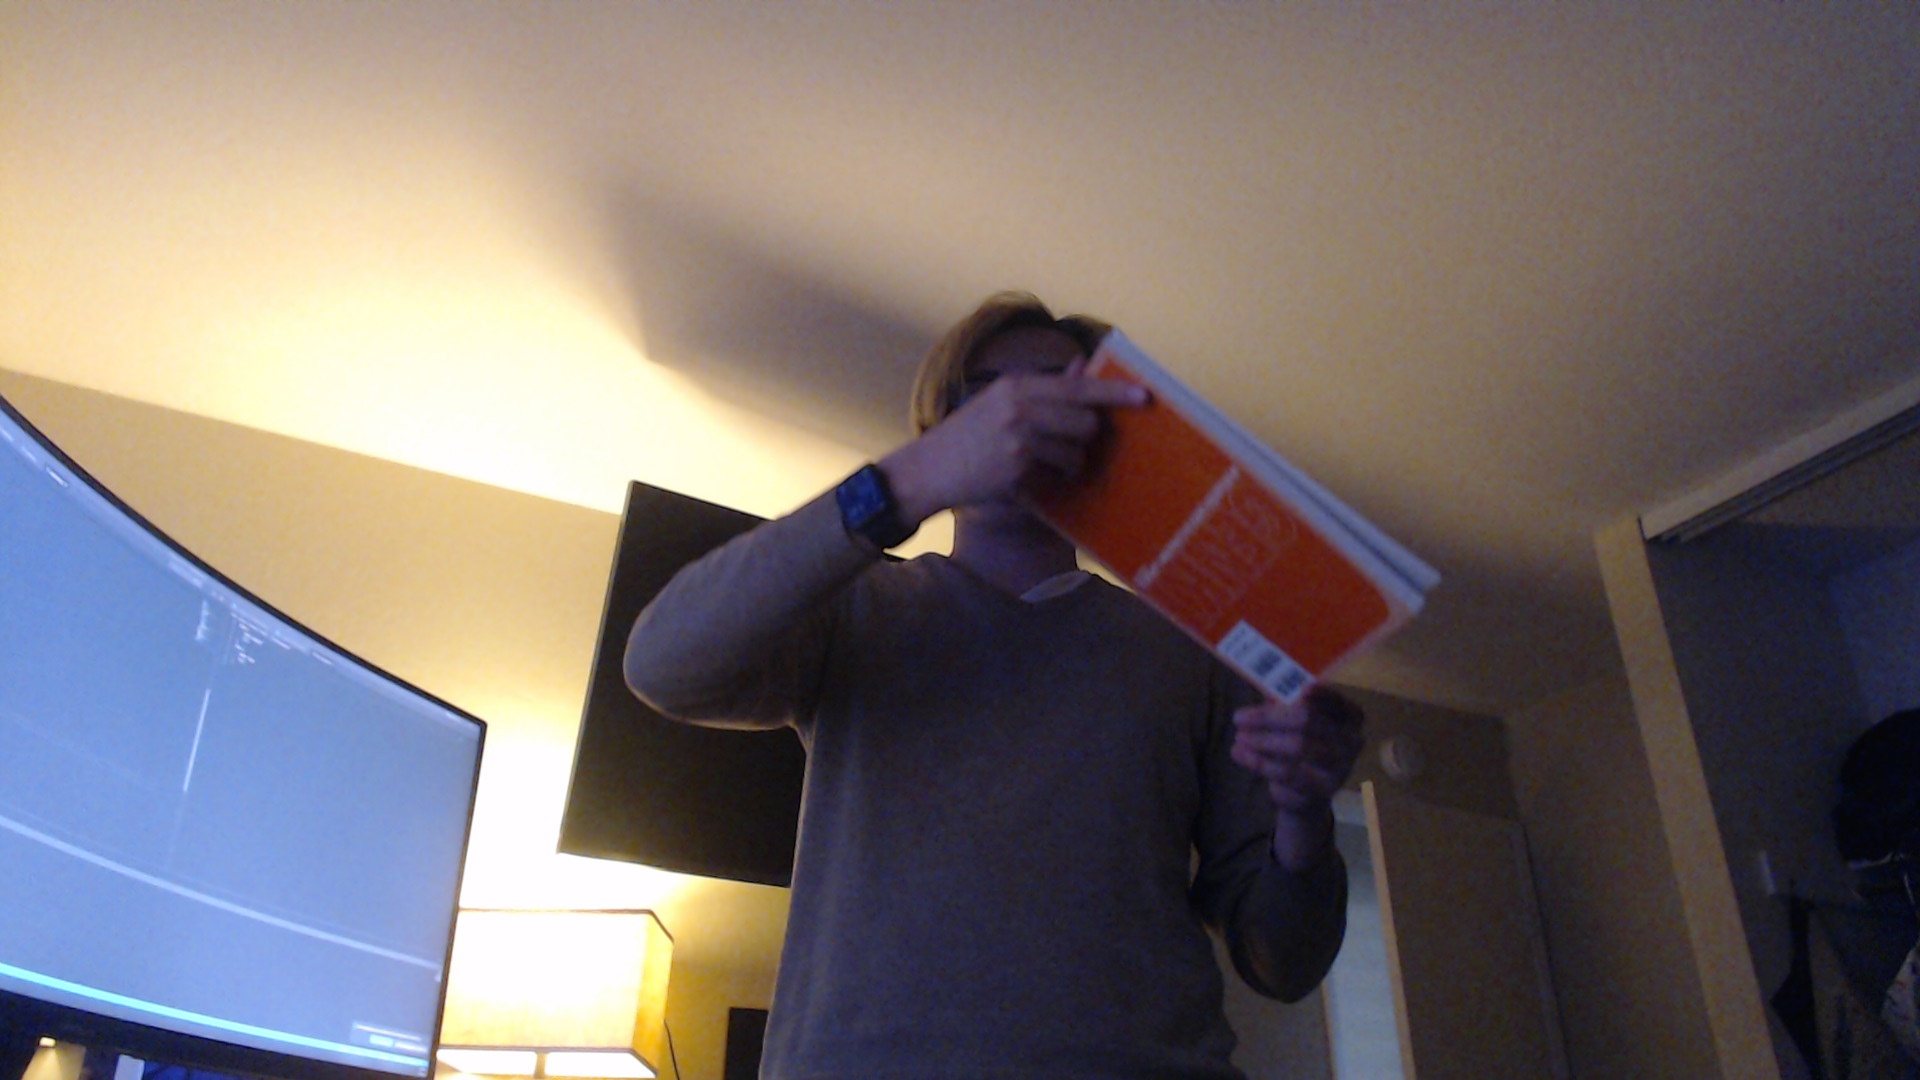book: (1007, 324, 1433, 715)
